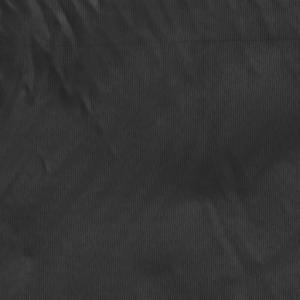Wrinkle: (1, 1, 126, 180), (183, 142, 285, 300)
